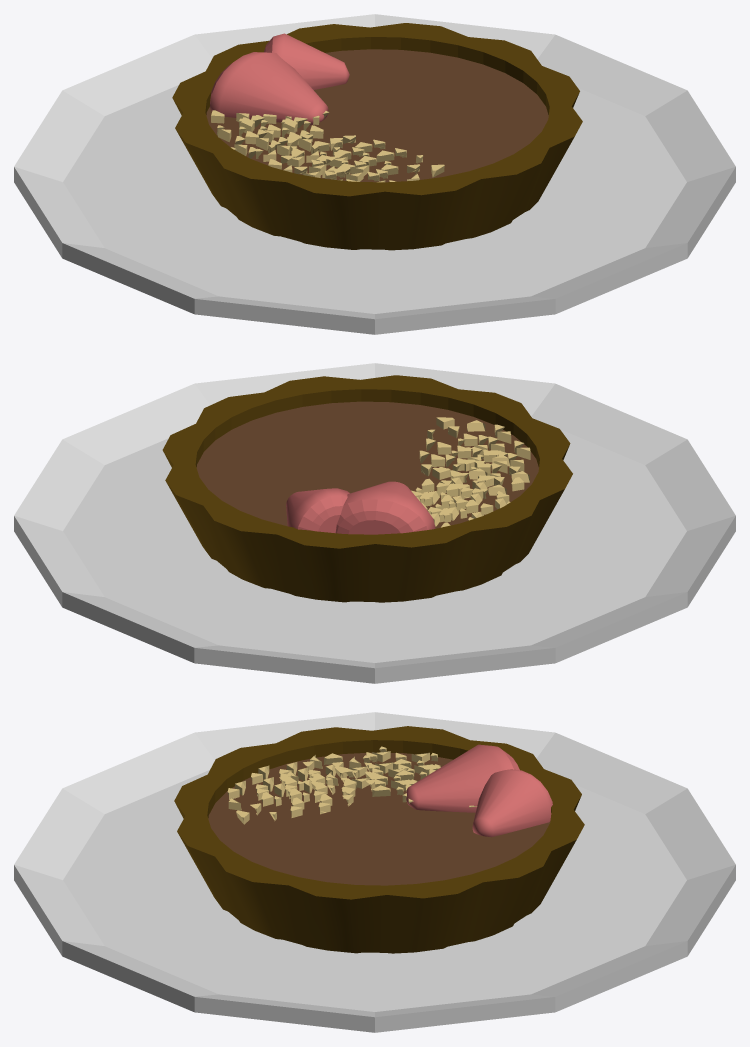
The model's file is tartv2.fbx.
The picture shows the model from 3 angles, top to bottom: view 1: azimuth 30°, elevation 25°; view 2: azimuth 150°, elevation 25°; view 3: azimuth 270°, elevation 25°; orthographic projection.
Visible parts, largest first — view 1: palte, pasted__nuts119; view 2: palte, pasted__nuts119; view 3: palte, pasted__nuts119.
Part boxes in pixels (x1,y1,x2,y2): palte: (14,14,735,334); pasted__nuts119: (172,23,582,250); palte: (14,363,735,683); pasted__nuts119: (162,375,572,602); palte: (14,712,735,1032); pasted__nuts119: (174,726,584,953).
Bounding box in the file's own units: 3.09 × 0.5415 × 3.09.
